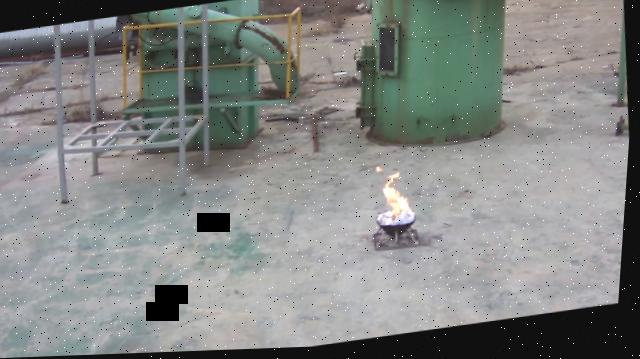fire: (382, 174, 415, 219), (377, 167, 385, 175)
